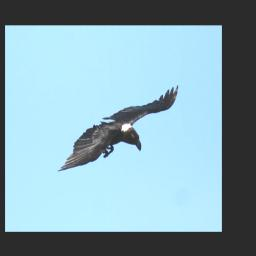Crow: (57, 83, 180, 172)
